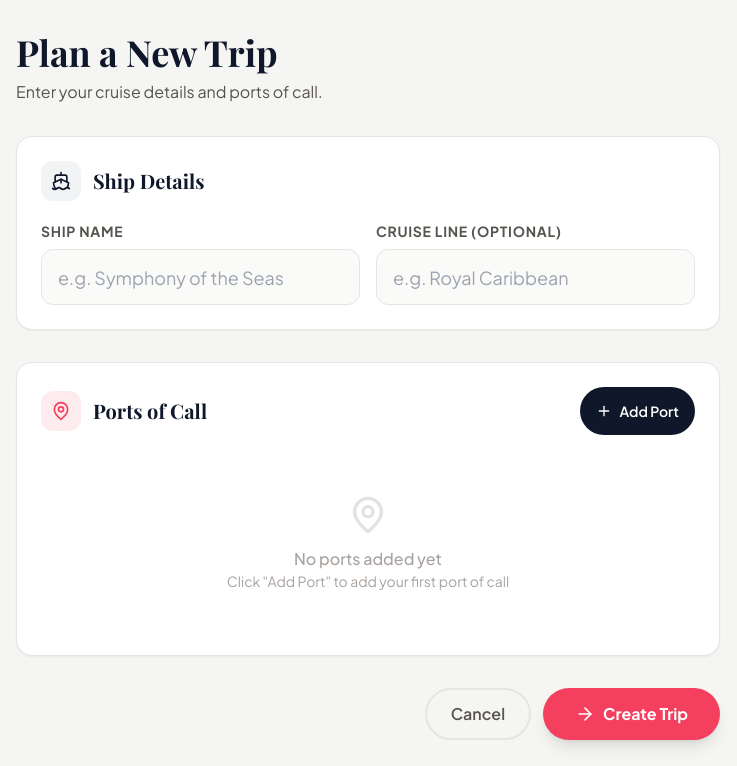
Test: TripSetup — lat/lng hidden from UI › lat and lng inputs are not in the DOM after adding a port
Click the button with test id "add-port-btn" at (637, 411), box 580,387 -> 695,435
(page scrolled)
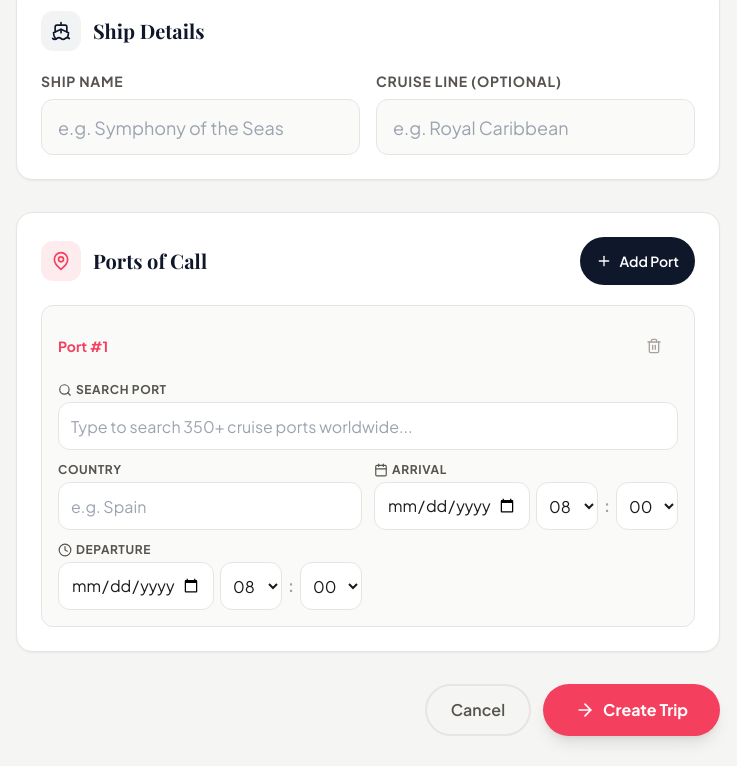
Result: the element with test id "port-entry-0" is shown at 41,305 -> 695,627
